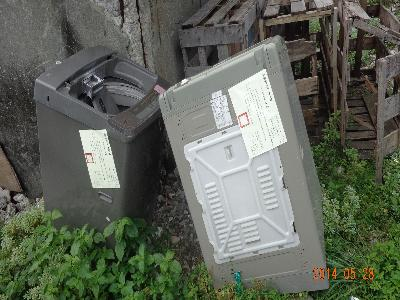washing_machine: (157, 33, 331, 298), (31, 43, 172, 262)
